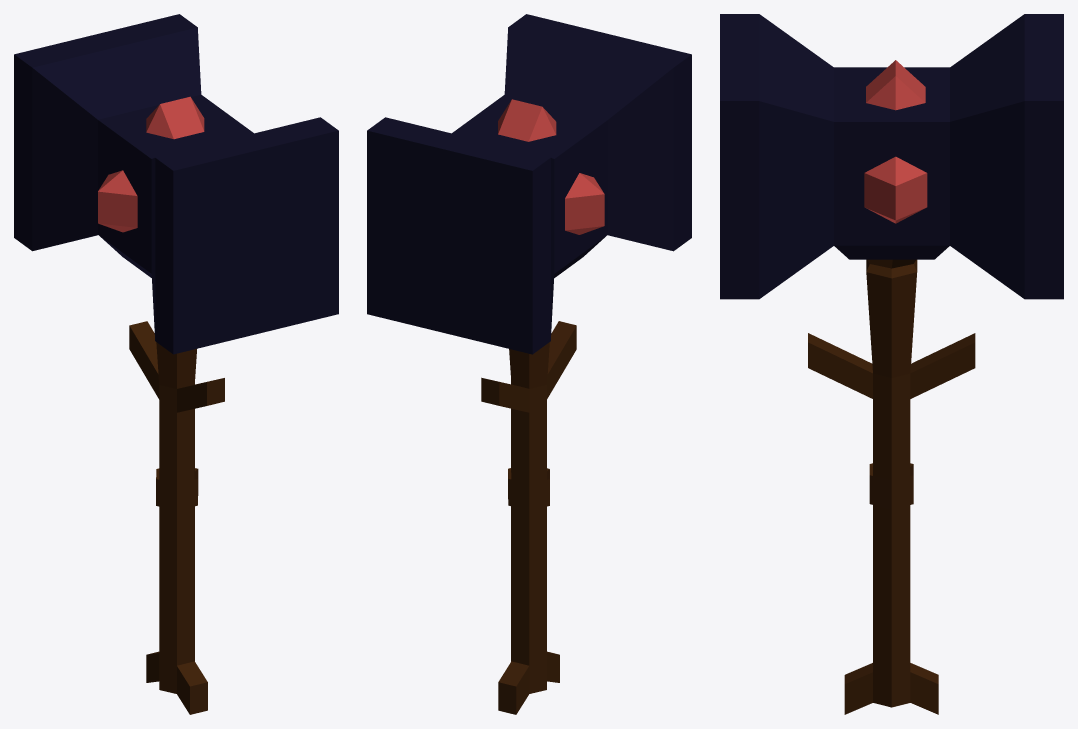
Rendered from Martillo.fbx.
The picture shows the model from 3 angles, left to right: view 1: azimuth 30°, elevation 25°; view 2: azimuth 150°, elevation 25°; view 3: azimuth 270°, elevation 25°; orthographic projection. The views are drawn at different scales.
Visible parts, largest first — view 1: Martillo; view 2: Martillo; view 3: Martillo.
Part boxes in pixels (bbox=[...]): Martillo: bbox=[14, 14, 338, 714]; Martillo: bbox=[367, 14, 691, 714]; Martillo: bbox=[720, 14, 1063, 714].
Bounding box in the file's own units: 70.92 × 248 × 118.
